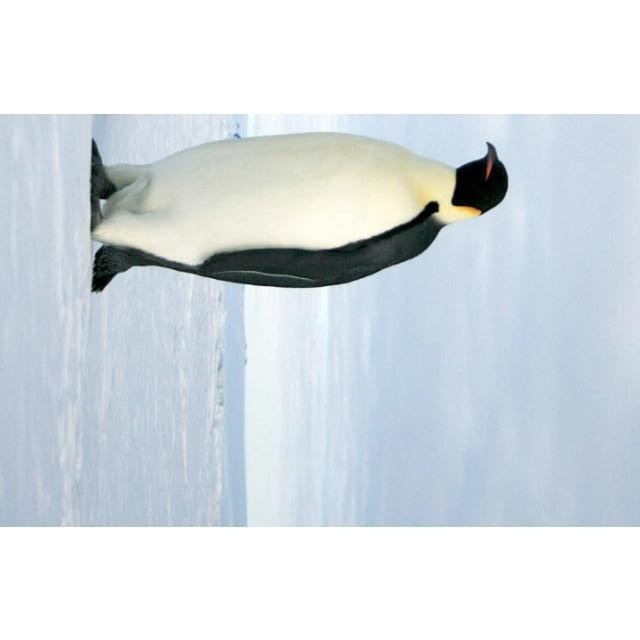penguin: (91, 132, 508, 294)
